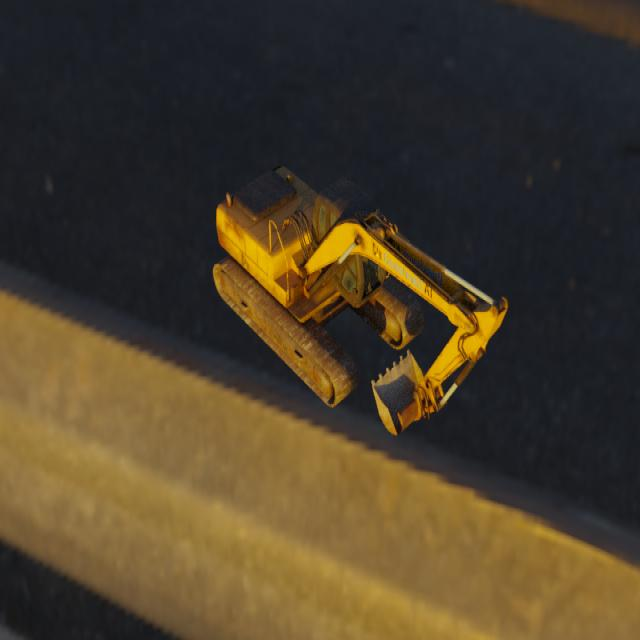excavator: (212, 165, 508, 435)
